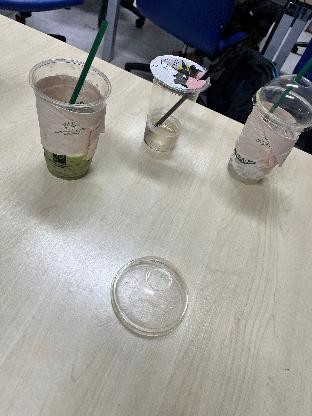Plastic Cup: (29, 61, 116, 183), (222, 89, 312, 185), (134, 52, 212, 156), (114, 252, 190, 340)
